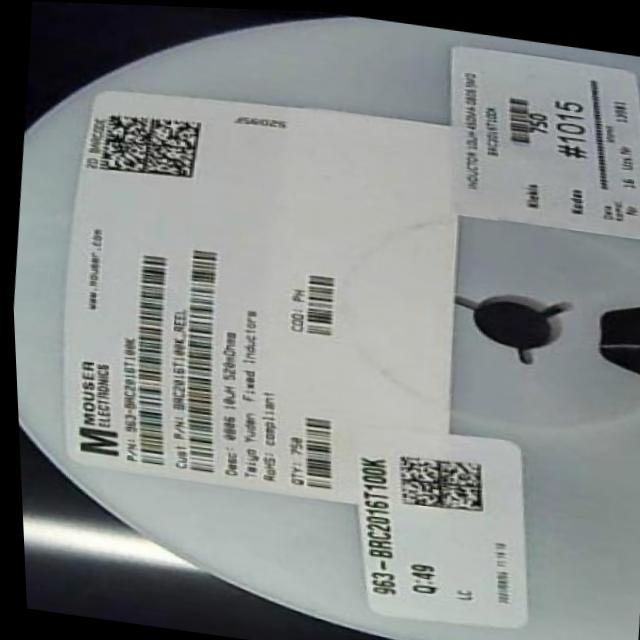datamatrix: (88, 103, 207, 185), (389, 445, 486, 513)
